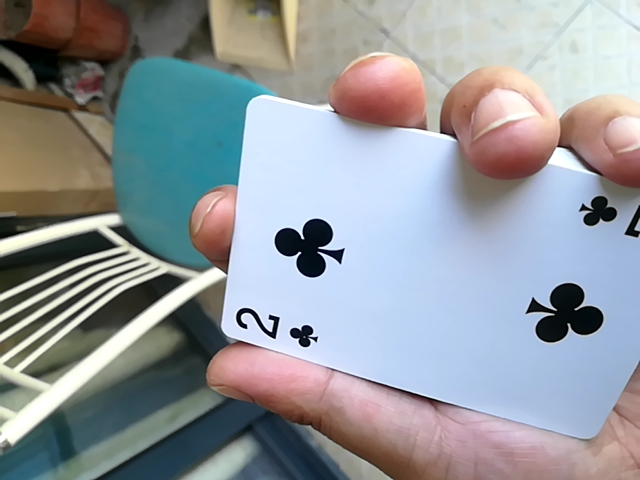mh 2: (205, 85, 630, 440)
